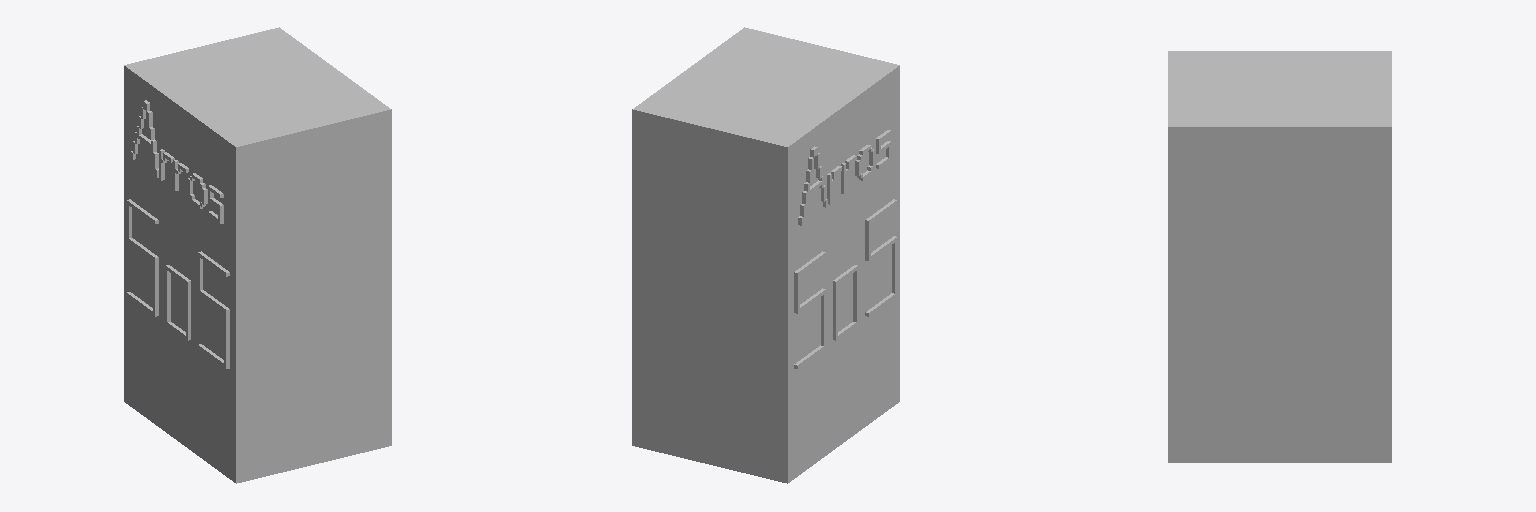
Rendered from Arroz.obj.
3 views of the same model, side by side, from view 1: azimuth 30°, elevation 25°; view 2: azimuth 150°, elevation 25°; view 3: azimuth 270°, elevation 25° (orthographic).
Parts seen in each view (by area): view 1: object 1; view 2: object 1; view 3: object 1.
Part boxes in pixels (left/top/right/bottom): object 1: left=124, top=27, right=391, bottom=483; object 1: left=632, top=27, right=899, bottom=483; object 1: left=1168, top=51, right=1391, bottom=462.
Bounding box in the file's own units: 4.5 × 9.1 × 5.5.